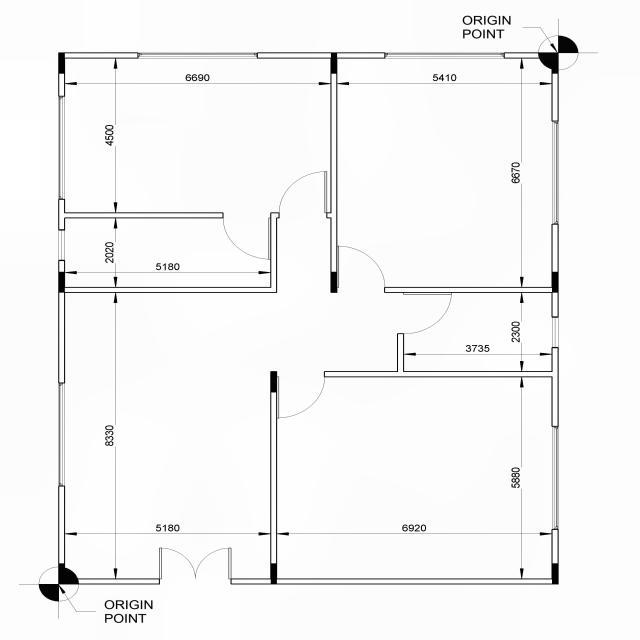Column: (330, 52, 338, 74), (330, 272, 338, 294), (270, 371, 278, 392), (58, 52, 65, 74), (270, 564, 277, 584), (58, 564, 65, 584), (58, 272, 65, 292), (552, 52, 558, 74), (552, 272, 558, 292), (552, 564, 558, 584)
Door: (222, 212, 270, 260), (277, 371, 325, 418), (337, 246, 385, 293), (398, 292, 451, 334), (279, 172, 327, 218)
Double-Door: (159, 548, 231, 584)
Window: (58, 96, 65, 200), (58, 383, 65, 486), (384, 52, 504, 58), (138, 52, 258, 58), (552, 426, 558, 530), (552, 120, 558, 224), (58, 230, 65, 262), (552, 317, 558, 348)
